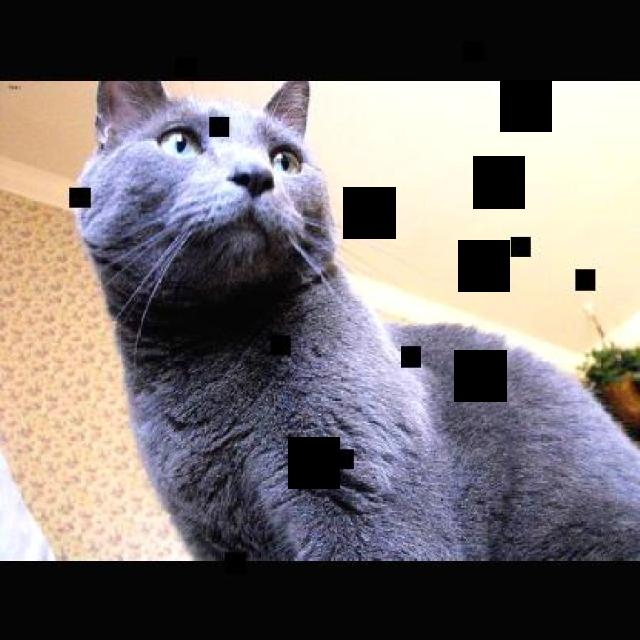unauthorized: (70, 77, 638, 560)
